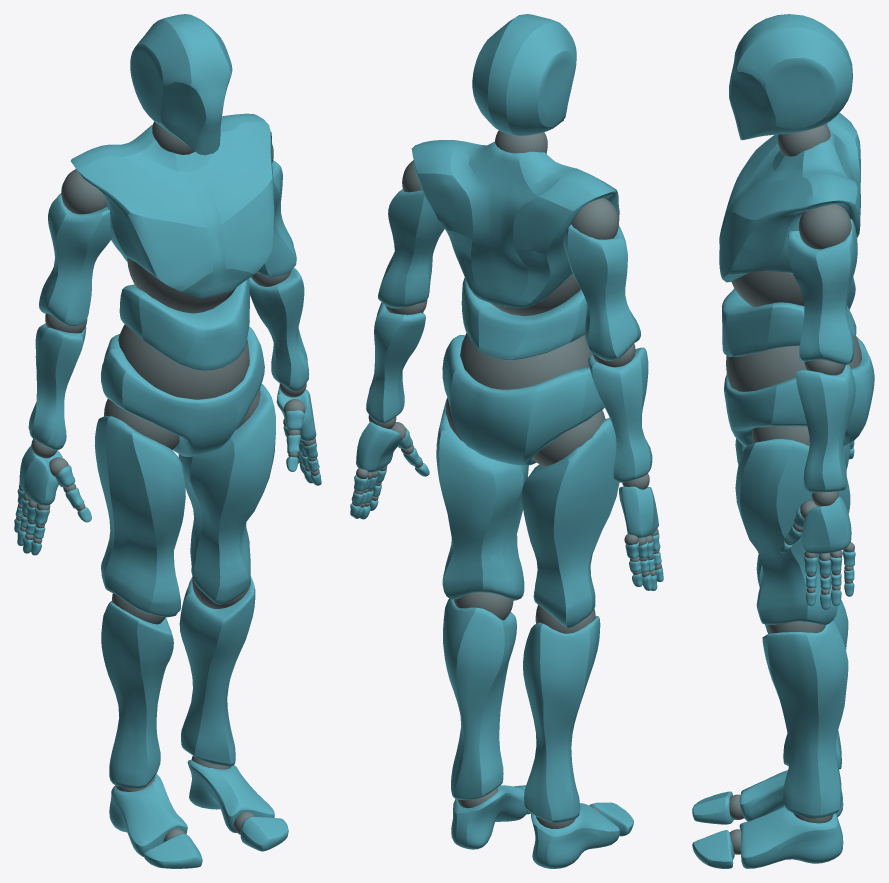
The model's file is ybot.fbx.
3 renders of one model, left to right at view 1: azimuth 30°, elevation 25°; view 2: azimuth 150°, elevation 25°; view 3: azimuth 270°, elevation 25°, orthographic. The views are drawn at different scales.
Visible parts, largest first — view 1: Alpha_Surface; view 2: Alpha_Surface; view 3: Alpha_Surface.
Boxes of the visible parts, x1,y1,x2,y2 form: Alpha_Surface: (14,14,321,868); Alpha_Surface: (350,14,663,868); Alpha_Surface: (692,14,874,868).
Size of the model in its own units: 68.32 by 180 by 36.43.
